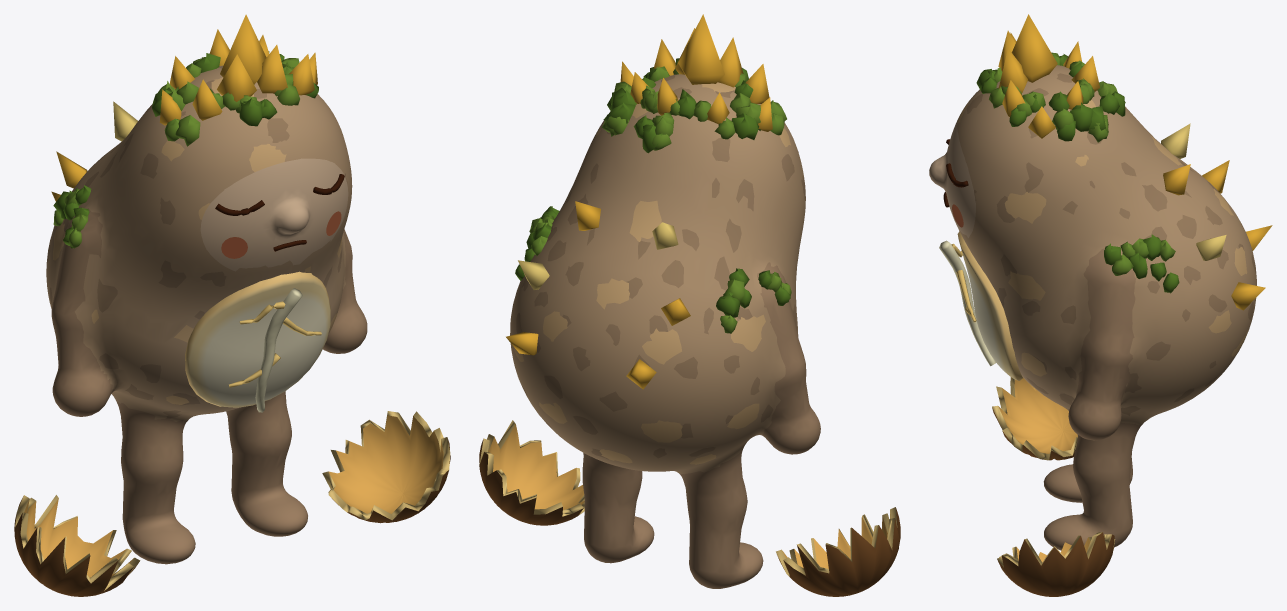
File: lumorun.glb
The picture shows the model from 3 angles, left to right: view 1: azimuth 30°, elevation 25°; view 2: azimuth 150°, elevation 25°; view 3: azimuth 270°, elevation 25°; orthographic projection. The views are drawn at different scales.
Parts seen in each view (by area): view 1: body, aura, eyes, lamp; view 2: body, eyes, aura; view 3: body, eyes, aura, lamp.
Part boxes in pixels (box(x1,y1,x2,y2)): body: box(46, 65, 367, 564); aura: box(14, 288, 450, 596); eyes: box(51, 14, 344, 258); lamp: box(185, 271, 330, 407); body: box(510, 74, 820, 588); eyes: box(506, 14, 791, 389); aura: box(479, 420, 900, 596); body: box(929, 65, 1256, 550); eyes: box(943, 14, 1272, 310); aura: box(939, 240, 1115, 596); lamp: box(957, 231, 1022, 380).
Bounding box in the file's own units: 1.08 × 1.35 × 0.828.
